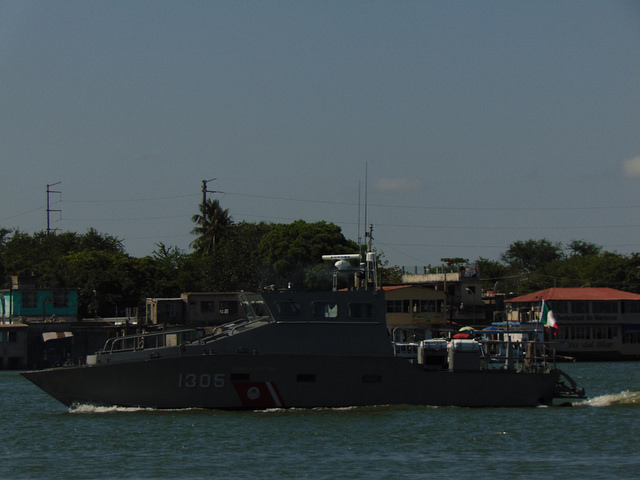tug_boat: (25, 267, 590, 412)
